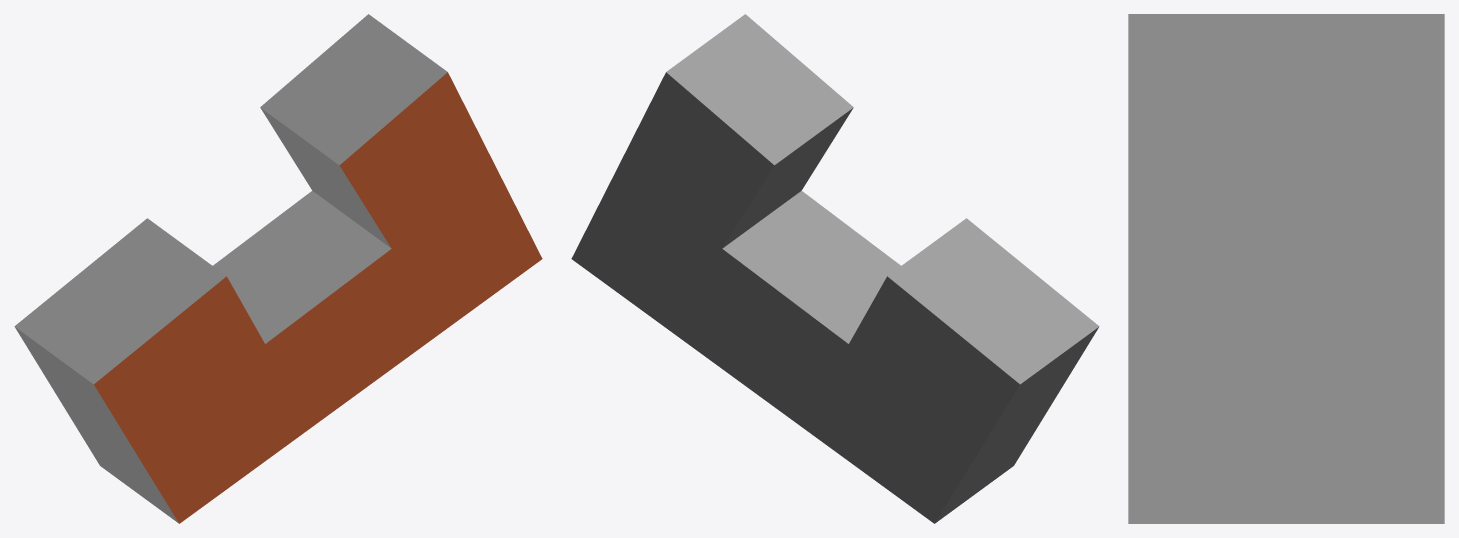
File: construction_0602_assumed_A_Casa_h6m.obj
3 renders of one model, left to right at view 1: azimuth 30°, elevation 25°; view 2: azimuth 150°, elevation 25°; view 3: azimuth 270°, elevation 25°, orthographic. The views are drawn at different scales.
Parts seen in each view (by area): view 1: construction_0602_assumed_A_Casa; view 2: construction_0602_assumed_A_Casa; view 3: construction_0602_assumed_A_Casa.
Boxes of the visible parts, <box> form: construction_0602_assumed_A_Casa: <box>14,14,542,523</box>; construction_0602_assumed_A_Casa: <box>571,14,1099,523</box>; construction_0602_assumed_A_Casa: <box>1128,14,1444,523</box>.
Size of the model in its own units: 19.59 by 16.11 by 6.
